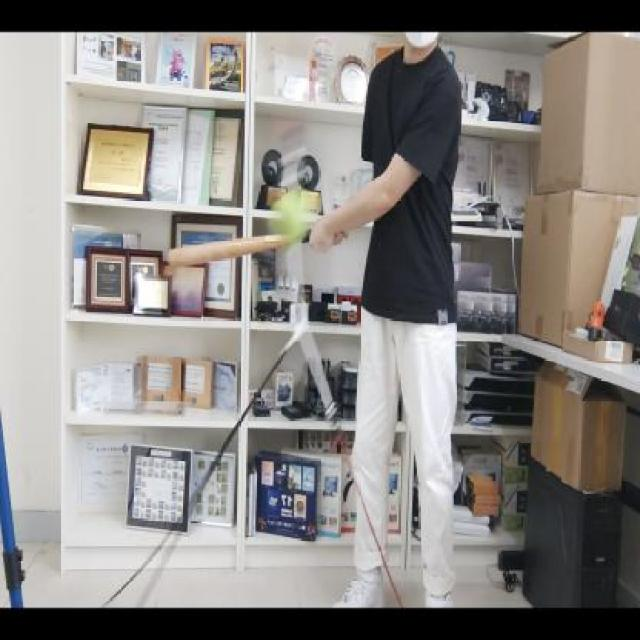baseball: (267, 191, 310, 232)
